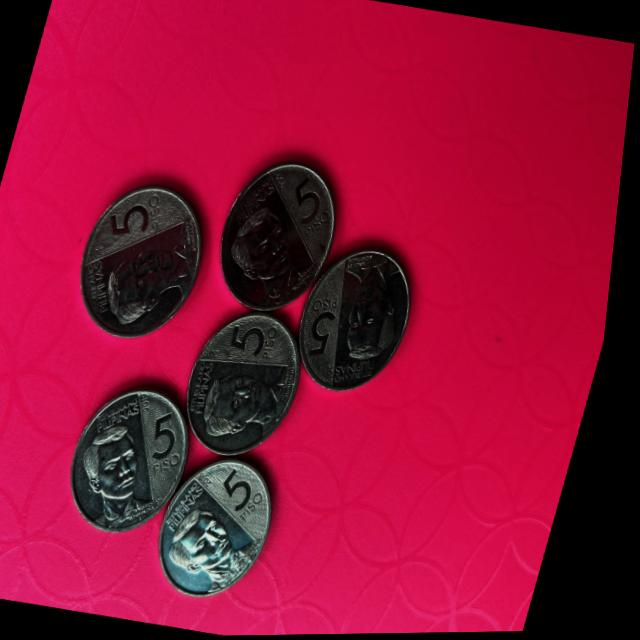5_New_Front: (273, 165, 352, 256), (208, 459, 289, 536), (102, 180, 183, 255), (299, 283, 363, 369), (144, 397, 210, 475), (221, 311, 294, 367)
